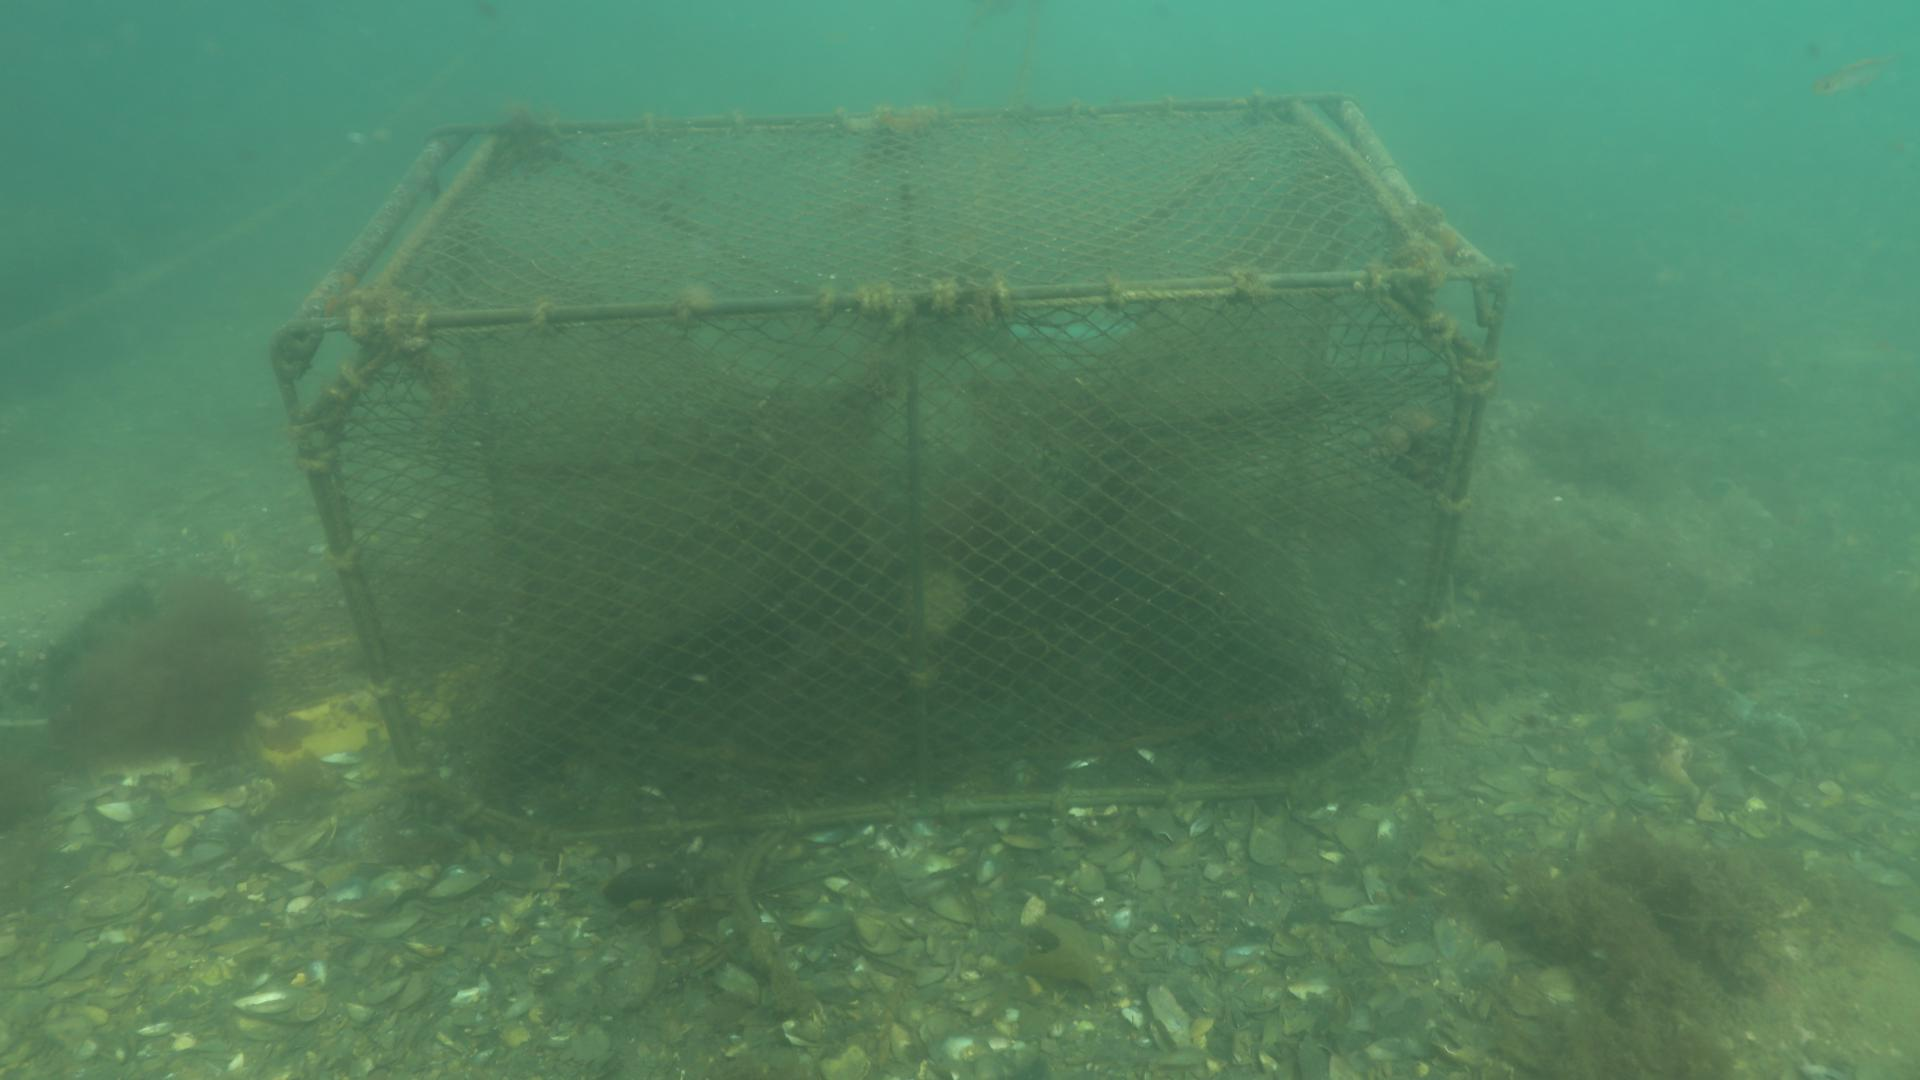rectangular fish trap: (266, 87, 1515, 851)
